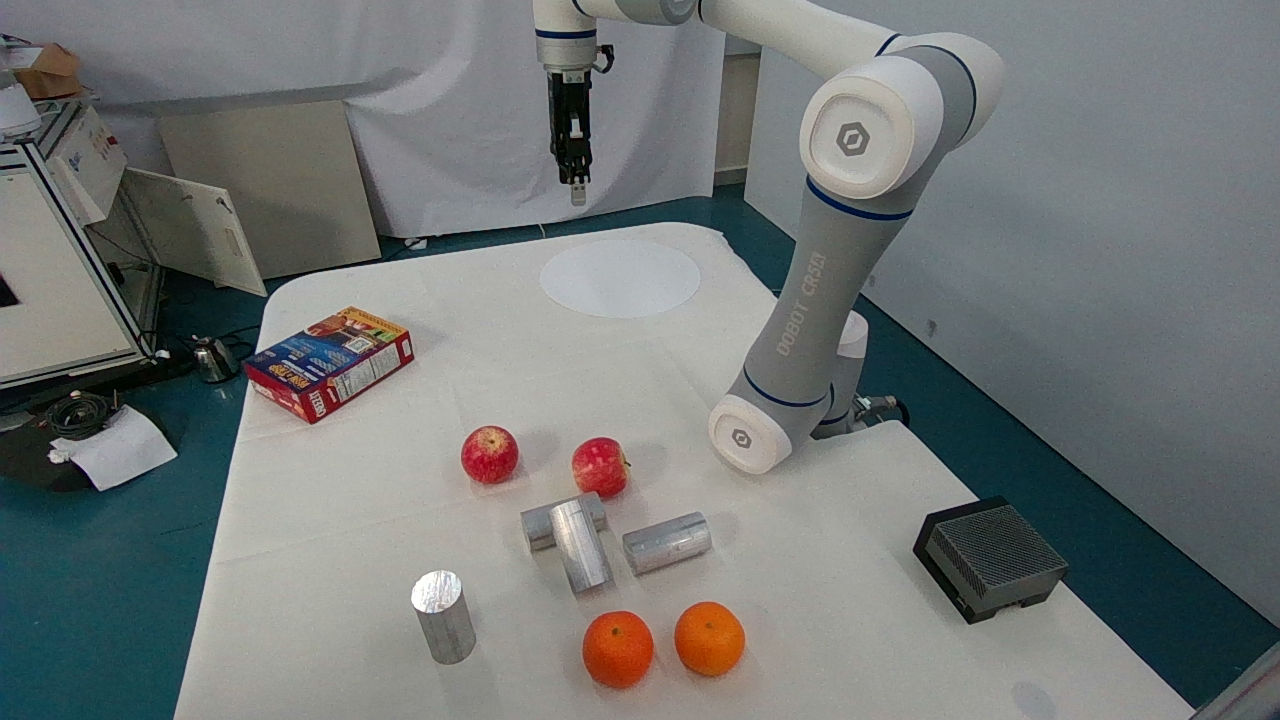apple: (562, 428, 643, 501), (456, 421, 524, 485)
metal rod: (409, 563, 490, 668), (619, 509, 731, 583), (551, 492, 611, 599)
orange: (665, 587, 759, 688), (568, 599, 661, 694)
